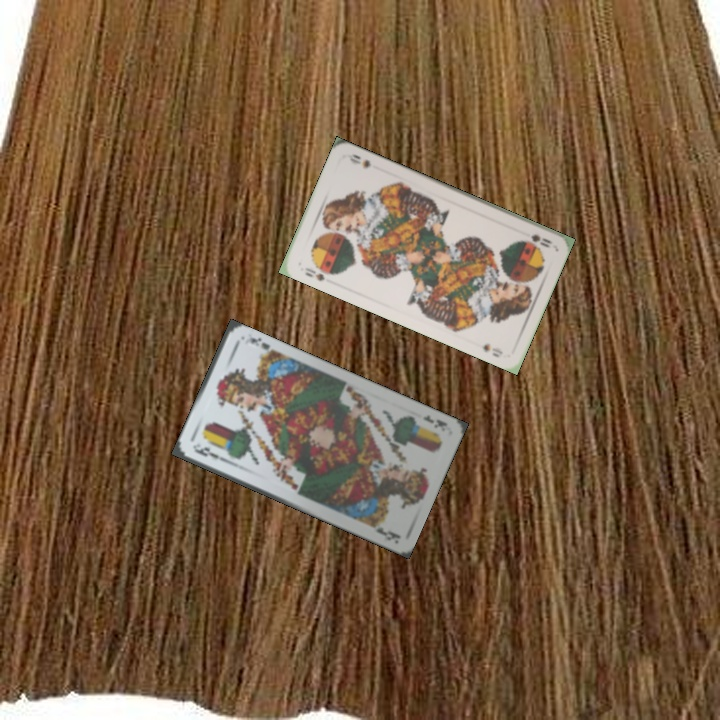EK: (190, 443, 229, 464), (419, 411, 450, 431)
SO: (301, 263, 327, 284), (527, 230, 554, 250)
